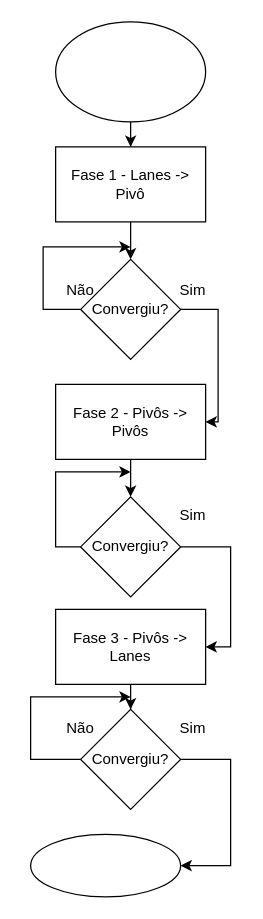
The diagram is 263 pixels wide and 919 high, and some of its shapes have lost their labels. The shapes that lost their labels are listed below. From the top down, each one's centre as x and y in pixels, then its label:
At (x=130, y=71): "Início".
At (x=105, y=865): "Fim".
